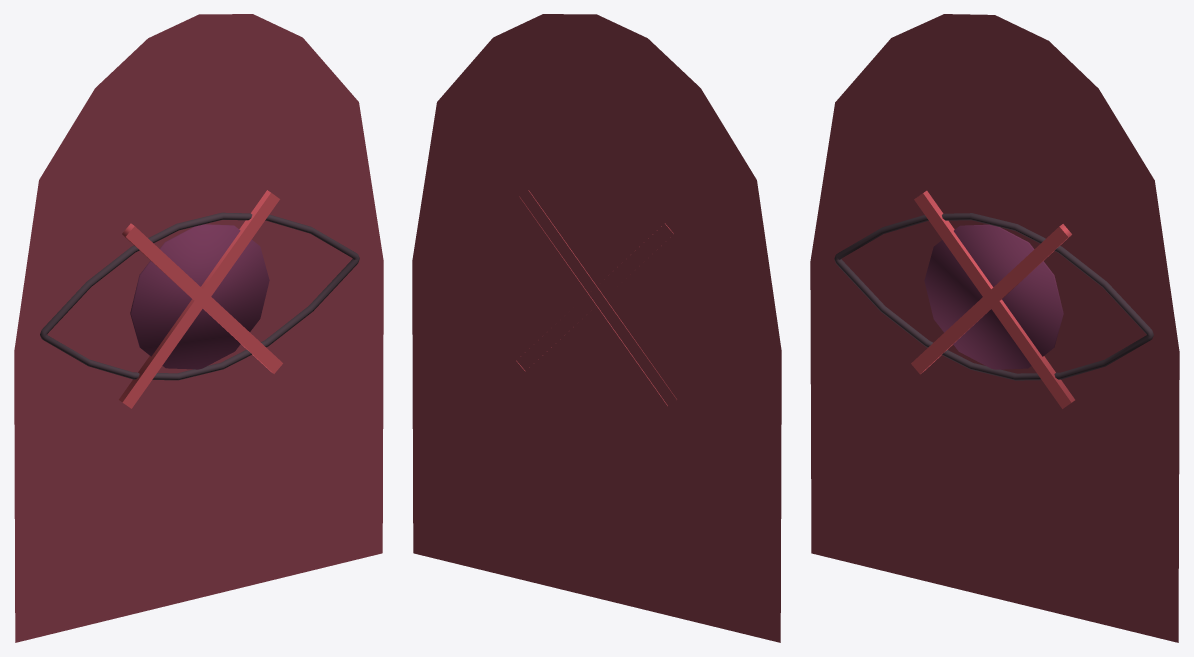
File: portatunel.fbx
3 renders of one model, left to right at view 1: azimuth 30°, elevation 25°; view 2: azimuth 150°, elevation 25°; view 3: azimuth 330°, elevation 25°, orthographic.
Visible parts, largest first — view 1: portatunel; view 2: portatunel; view 3: portatunel.
Boxes of the visible parts, left/top/right/bottom form: portatunel: left=14, top=14, right=383, bottom=642; portatunel: left=412, top=14, right=781, bottom=642; portatunel: left=810, top=14, right=1179, bottom=642.
Size of the model in its own units: 83.55 by 126 by 1.64.
